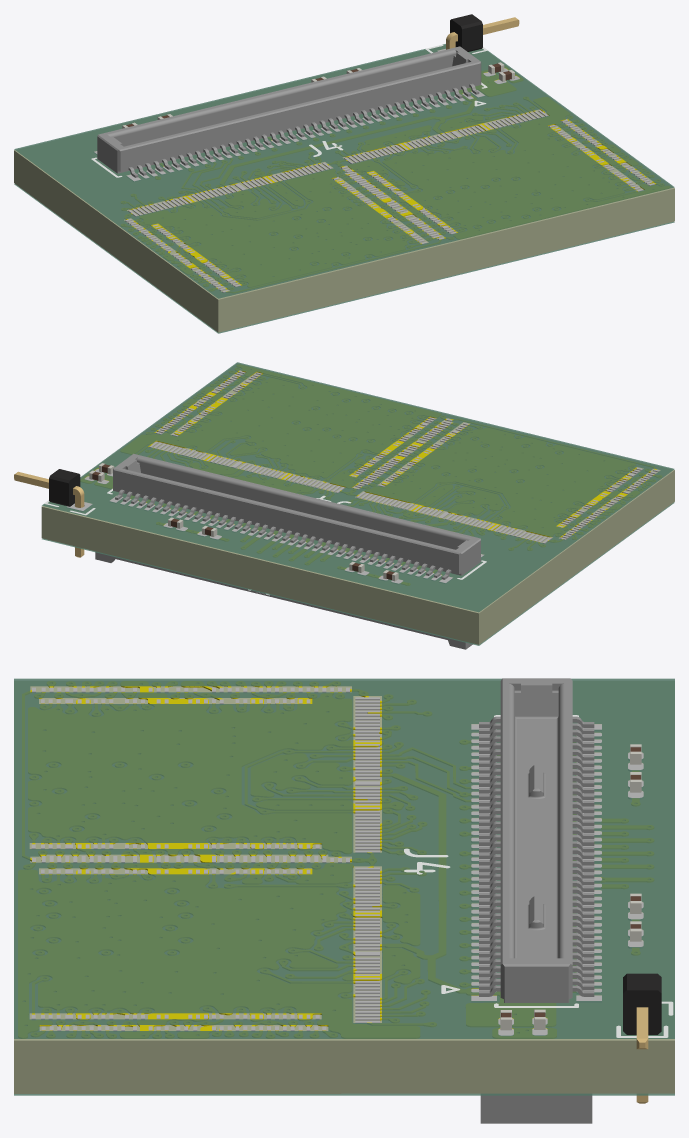
The model's file is asic-top-v3.glb.
The picture shows the model from 3 angles, top to bottom: view 1: azimuth 30°, elevation 25°; view 2: azimuth 150°, elevation 25°; view 3: azimuth 270°, elevation 25°; orthographic projection. The views are drawn at different scales.
Parts seen in each view (by area): view 1: =>[0:1:1:15], =>[0:1:1:17], =>[0:1:1:10], =>[0:1:1:3], =>[0:1:1:11], =>[0:1:1:7], =>[0:1:1:16]; view 2: =>[0:1:1:15], =>[0:1:1:17], =>[0:1:1:10], =>[0:1:1:3], =>[0:1:1:11], =>[0:1:1:7], =>[0:1:1:9], =>[0:1:1:16]; view 3: =>[0:1:1:15], =>[0:1:1:10], =>[0:1:1:17], =>[0:1:1:3], =>[0:1:1:11], =>[0:1:1:9], =>[0:1:1:7], =>[0:1:1:16], =>[0:1:1:12], =>[0:1:1:13].
Boxes of the visible parts, x1,y1,x2,y2 form: =>[0:1:1:15]: (14, 44, 674, 298); =>[0:1:1:17]: (14, 45, 674, 332); =>[0:1:1:10]: (121, 67, 669, 292); =>[0:1:1:3]: (97, 46, 481, 177); =>[0:1:1:11]: (94, 49, 654, 292); =>[0:1:1:7]: (446, 14, 519, 51); =>[0:1:1:16]: (14, 184, 674, 333); =>[0:1:1:15]: (42, 362, 674, 612); =>[0:1:1:17]: (41, 364, 674, 644); =>[0:1:1:10]: (81, 365, 661, 585); =>[0:1:1:3]: (113, 453, 480, 579); =>[0:1:1:11]: (67, 371, 659, 583); =>[0:1:1:7]: (14, 469, 84, 557); =>[0:1:1:9]: (95, 552, 472, 649); =>[0:1:1:16]: (42, 502, 674, 645); =>[0:1:1:15]: (14, 678, 674, 1038); =>[0:1:1:10]: (18, 681, 653, 1038); =>[0:1:1:17]: (14, 681, 674, 1093); =>[0:1:1:3]: (479, 678, 594, 1002); =>[0:1:1:11]: (31, 687, 643, 1035); =>[0:1:1:9]: (480, 1094, 592, 1123); =>[0:1:1:7]: (623, 973, 661, 1103); =>[0:1:1:16]: (14, 1093, 674, 1095); =>[0:1:1:12]: (22, 682, 651, 1035); =>[0:1:1:13]: (404, 715, 673, 1037).
Bounding box in the file's own units: 0.0238 × 0.0044 × 0.017.
